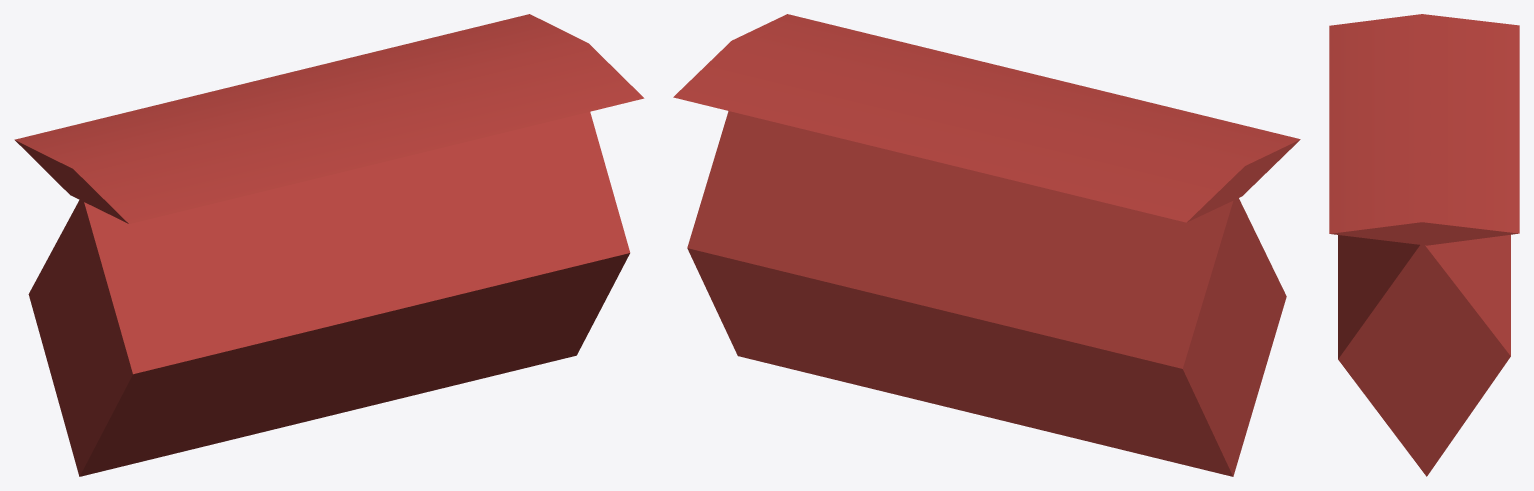
File: toolbox_lod2.glb
3 views of the same model, side by side, from view 1: azimuth 30°, elevation 25°; view 2: azimuth 150°, elevation 25°; view 3: azimuth 270°, elevation 25° (orthographic). The views are drawn at different scales.
Visible parts, largest first — view 1: toolbox_lod2; view 2: toolbox_lod2; view 3: toolbox_lod2.
Part boxes in pixels (box(x1,y1,x2,y2)): toolbox_lod2: box(14, 14, 644, 476); toolbox_lod2: box(673, 14, 1300, 476); toolbox_lod2: box(1329, 14, 1519, 476).
Size of the model in its own units: 0.228 by 0.132 by 0.088.
